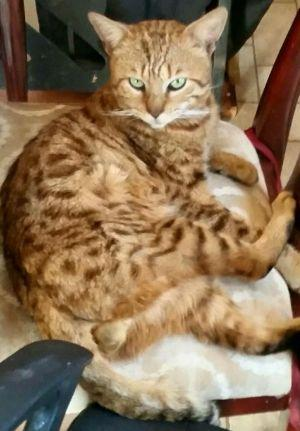bengal: (87, 4, 239, 135)
